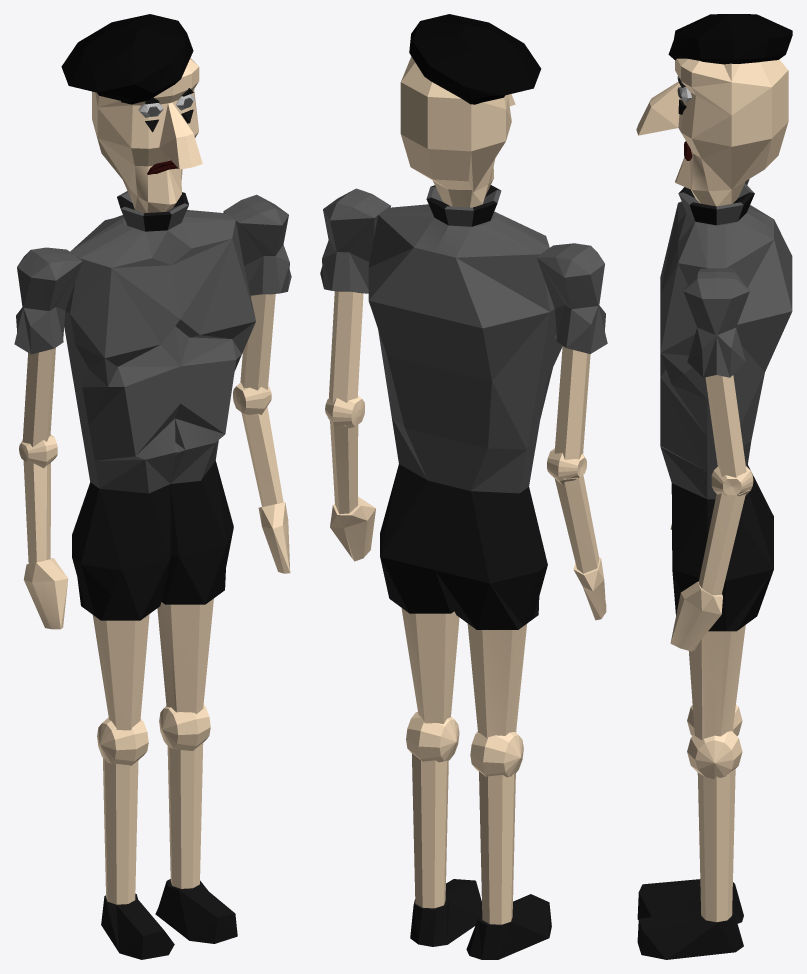
Rendered from mime3finalversion.fbx.
3 views of the same model, side by side, from view 1: azimuth 30°, elevation 25°; view 2: azimuth 150°, elevation 25°; view 3: azimuth 270°, elevation 25° (orthographic). The views are drawn at different scales.
Parts seen in each view (by area): view 1: upper body, legs, lower body, arms2, arms, head, hat, foot, neck2.2, neck2; view 2: upper body, legs, lower body, arms2, arms, head, hat, foot, neck2, neck2.2; view 3: upper body, head, legs, lower body, arms2, foot, arms, hat, neck2.2, neck2.
Boxes of the visible parts, x1=… form: upper body: x1=64, y1=210, x2=255, y2=493; legs: x1=92, y1=598, x2=213, y2=904; lower body: x1=72, y1=460, x2=233, y2=620; arms2: x1=19, y1=294, x2=290, y2=629; arms: x1=14, y1=194, x2=291, y2=354; head: x1=92, y1=57, x2=202, y2=212; hat: x1=61, y1=14, x2=193, y2=104; foot: x1=101, y1=879, x2=237, y2=959; neck2.2: x1=117, y1=191, x2=188, y2=231; neck2: x1=117, y1=193, x2=188, y2=231; upper body: x1=368, y1=204, x2=562, y2=493; legs: x1=401, y1=608, x2=526, y2=924; lower body: x1=380, y1=464, x2=547, y2=629; arms2: x1=325, y1=291, x2=606, y2=620; arms: x1=320, y1=188, x2=607, y2=353; head: x1=400, y1=56, x2=515, y2=207; hat: x1=409, y1=14, x2=541, y2=104; foot: x1=410, y1=879, x2=551, y2=959; neck2: x1=426, y1=185, x2=500, y2=226; neck2.2: x1=426, y1=186, x2=501, y2=226; upper body: x1=660, y1=201, x2=792, y2=499; head: x1=636, y1=58, x2=788, y2=206; legs: x1=687, y1=625, x2=745, y2=922; lower body: x1=671, y1=465, x2=773, y2=631; arms2: x1=670, y1=375, x2=753, y2=651; foot: x1=637, y1=879, x2=743, y2=959; arms: x1=683, y1=179, x2=749, y2=377; hat: x1=668, y1=14, x2=792, y2=64; neck2.2: x1=678, y1=183, x2=754, y2=225; neck2: x1=679, y1=187, x2=754, y2=225.
Bounding box in the file's own units: 215 × 659 × 102.
